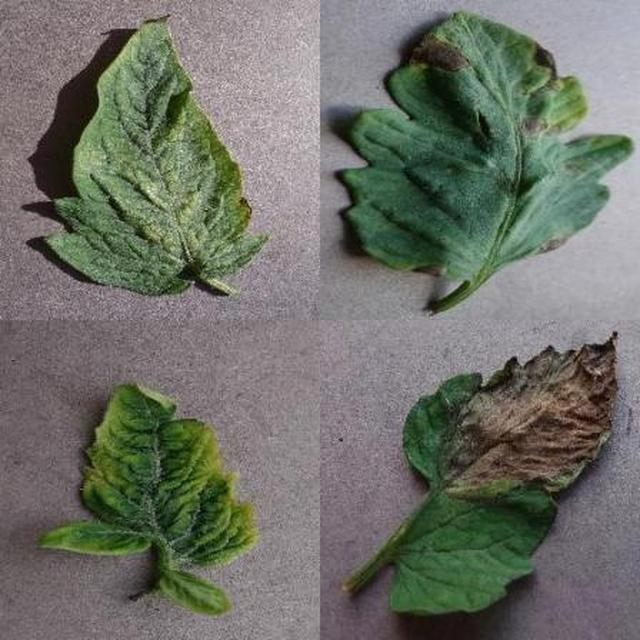Spider Mites Leaf: (207, 205, 640, 640)
